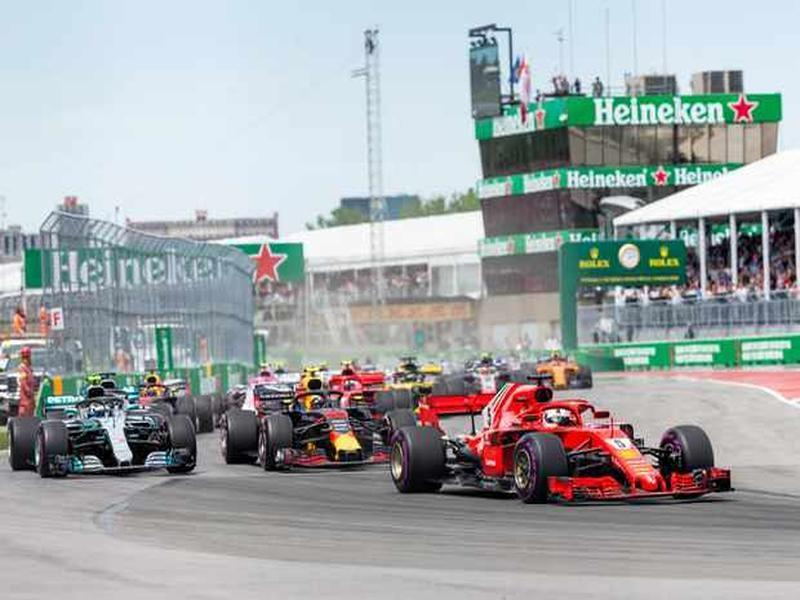f1: (395, 384, 743, 523), (224, 389, 432, 494), (7, 394, 220, 488)
